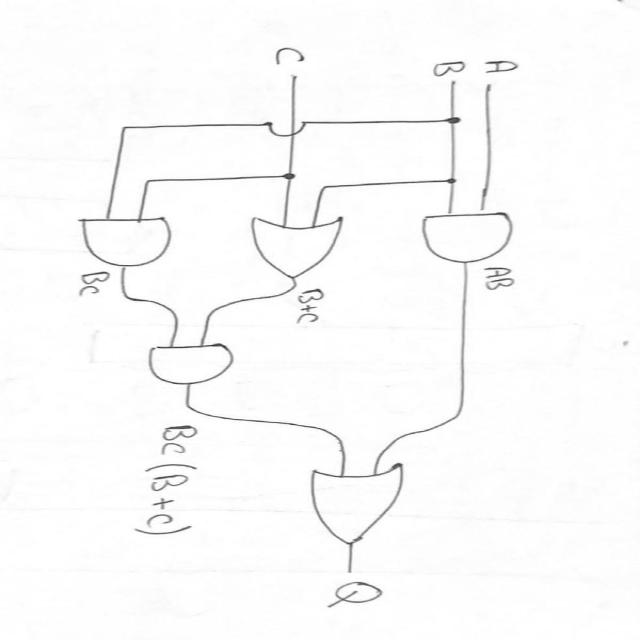AND: (66, 206, 190, 274), (408, 203, 530, 267), (124, 336, 251, 394)
OR: (290, 457, 435, 561), (228, 209, 367, 287)
